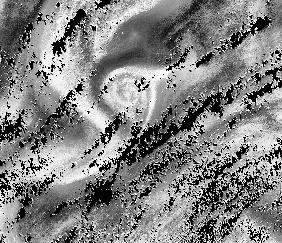CE: (101, 63, 156, 115)
